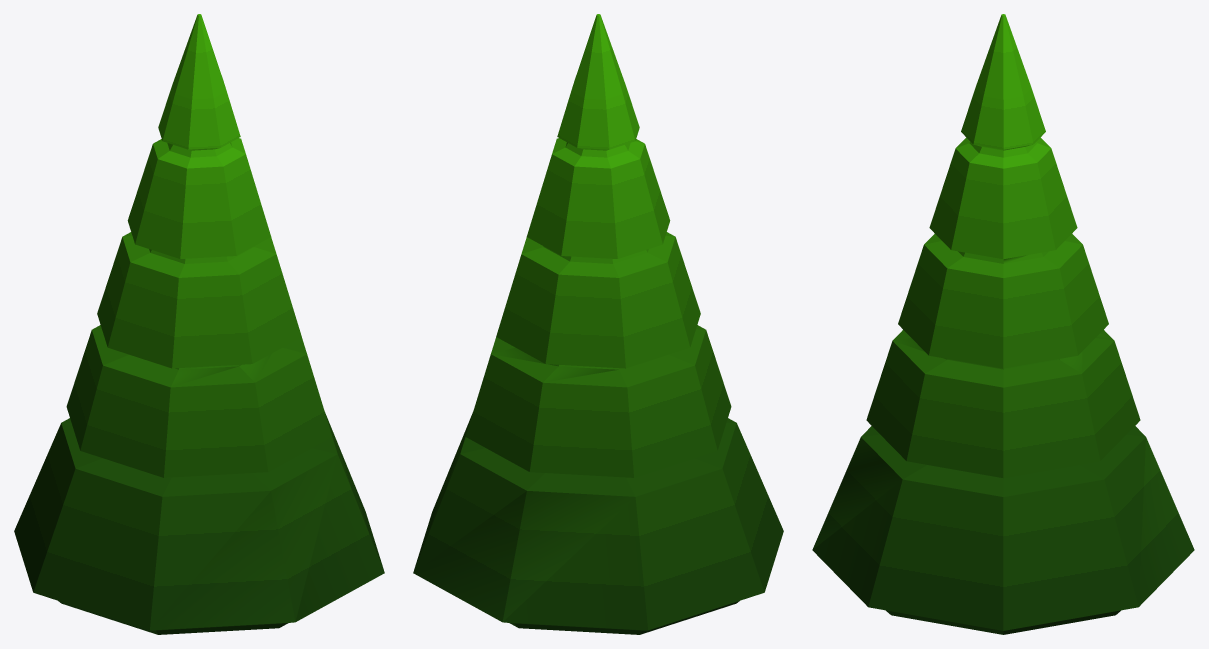
Rendered from Prefab_Xmas_Tree_C.glb.
3 views of the same model, side by side, from view 1: azimuth 30°, elevation 25°; view 2: azimuth 150°, elevation 25°; view 3: azimuth 270°, elevation 25° (orthographic).
Parts seen in each view (by area): view 1: Tree_C; view 2: Tree_C; view 3: Tree_C.
Boxes of the visible parts, x1,y1,x2,y2 form: Tree_C: [14, 14, 384, 634]; Tree_C: [413, 14, 783, 634]; Tree_C: [812, 14, 1194, 634].
Bounding box in the file's own units: 1.36 × 2.17 × 1.36.
Materials: 1 (1 with a texture image).
